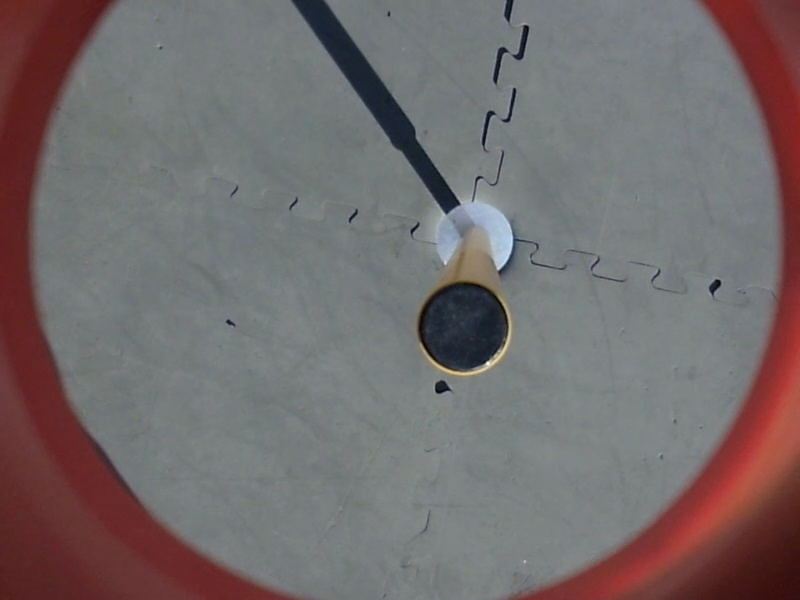tip: (414, 276, 514, 379)
